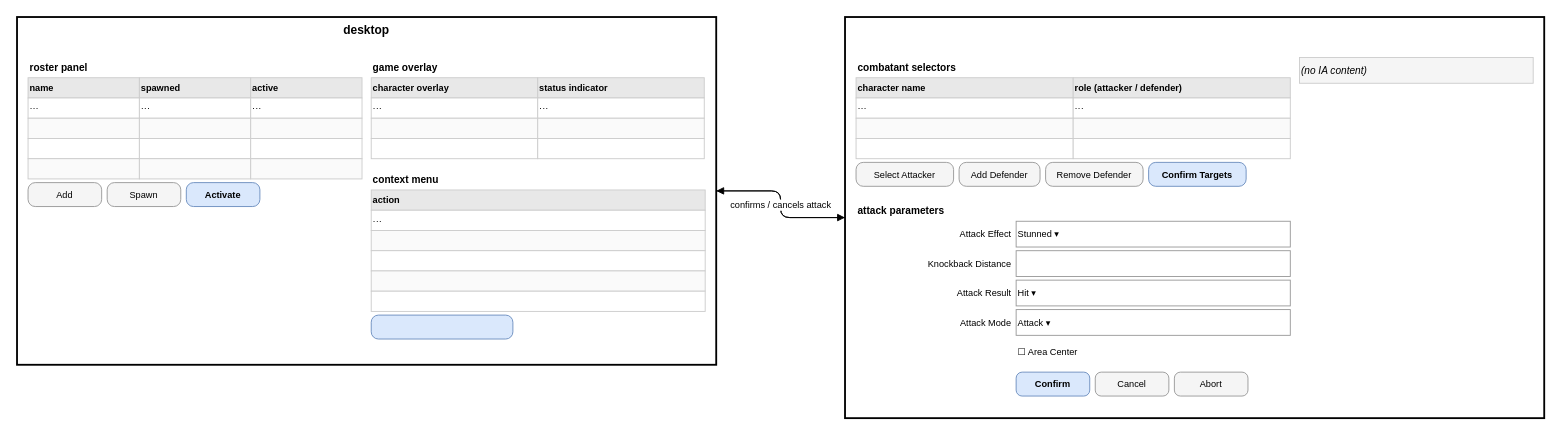
This 1560x434 diagram has some shape labels left out. Each missing label, with the box of its shape:
Activate Attack Ability: (370, 314, 513, 339)
attack configuration: (844, 16, 1545, 419)
